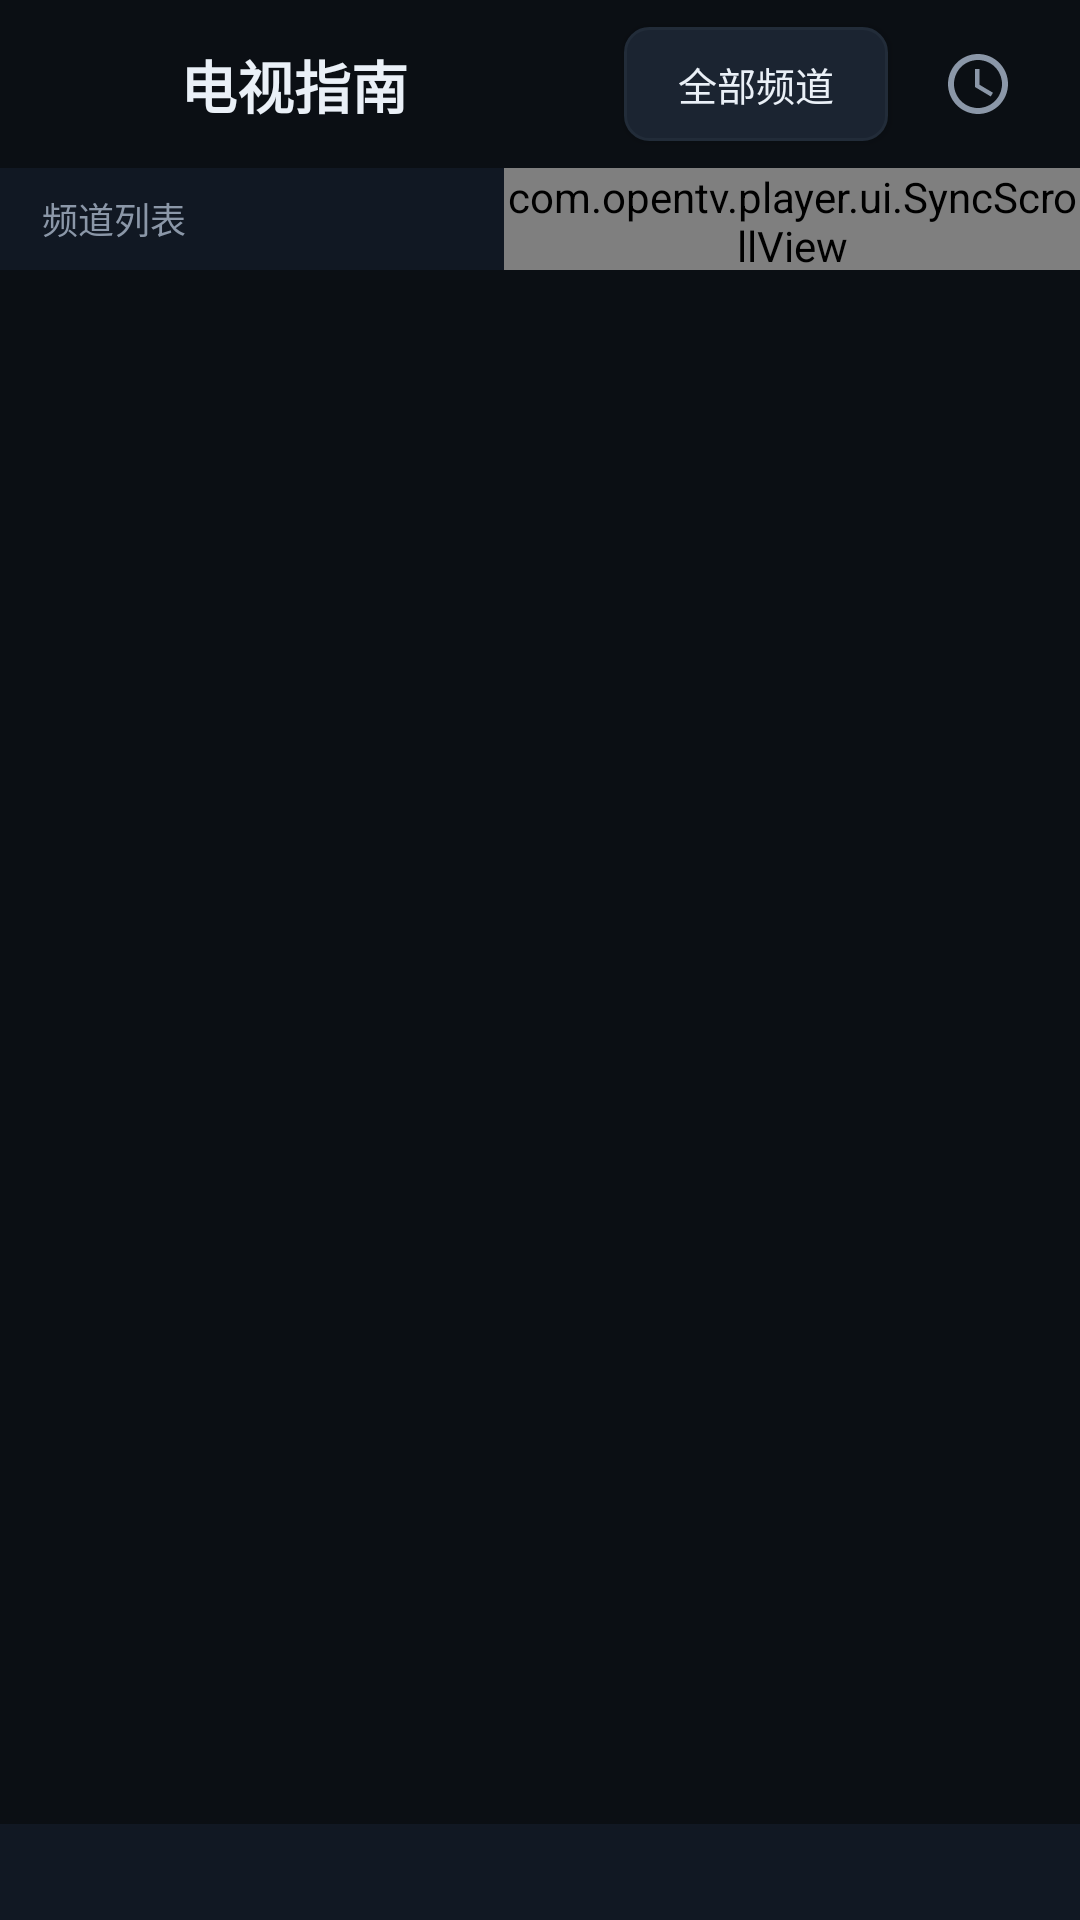

Icons on this 1080 × 1920 Android screen, each with its box as (x1, y1, x2, y2):
今天: (948, 54, 1008, 114)
